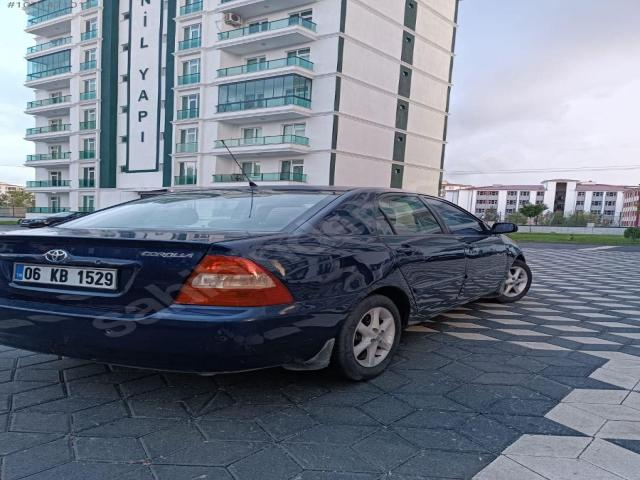plaka: (14, 263, 116, 289)
